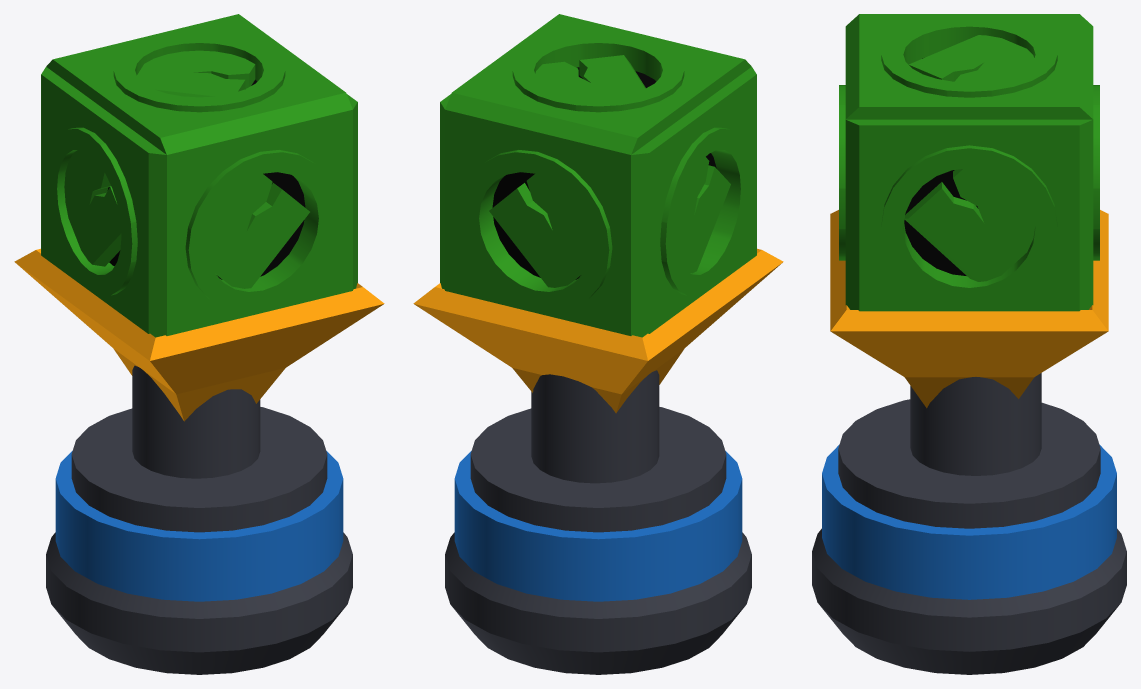
File: tower_lucky_chinese_jade.obj
3 views of the same model, side by side, from view 1: azimuth 30°, elevation 25°; view 2: azimuth 150°, elevation 25°; view 3: azimuth 270°, elevation 25° (orthographic). The views are drawn at different scales.
Parts seen in each view (by area): view 1: mergedBlocks; view 2: mergedBlocks; view 3: mergedBlocks.
Part boxes in pixels (bbox=[...]): mergedBlocks: bbox=[14, 14, 384, 674]; mergedBlocks: bbox=[413, 14, 783, 674]; mergedBlocks: bbox=[812, 14, 1126, 674].
Size of the model in its own units: 0.96 by 1.9 by 0.96.
